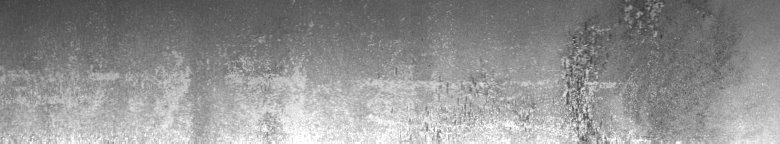hc: (527, 4, 663, 134)
